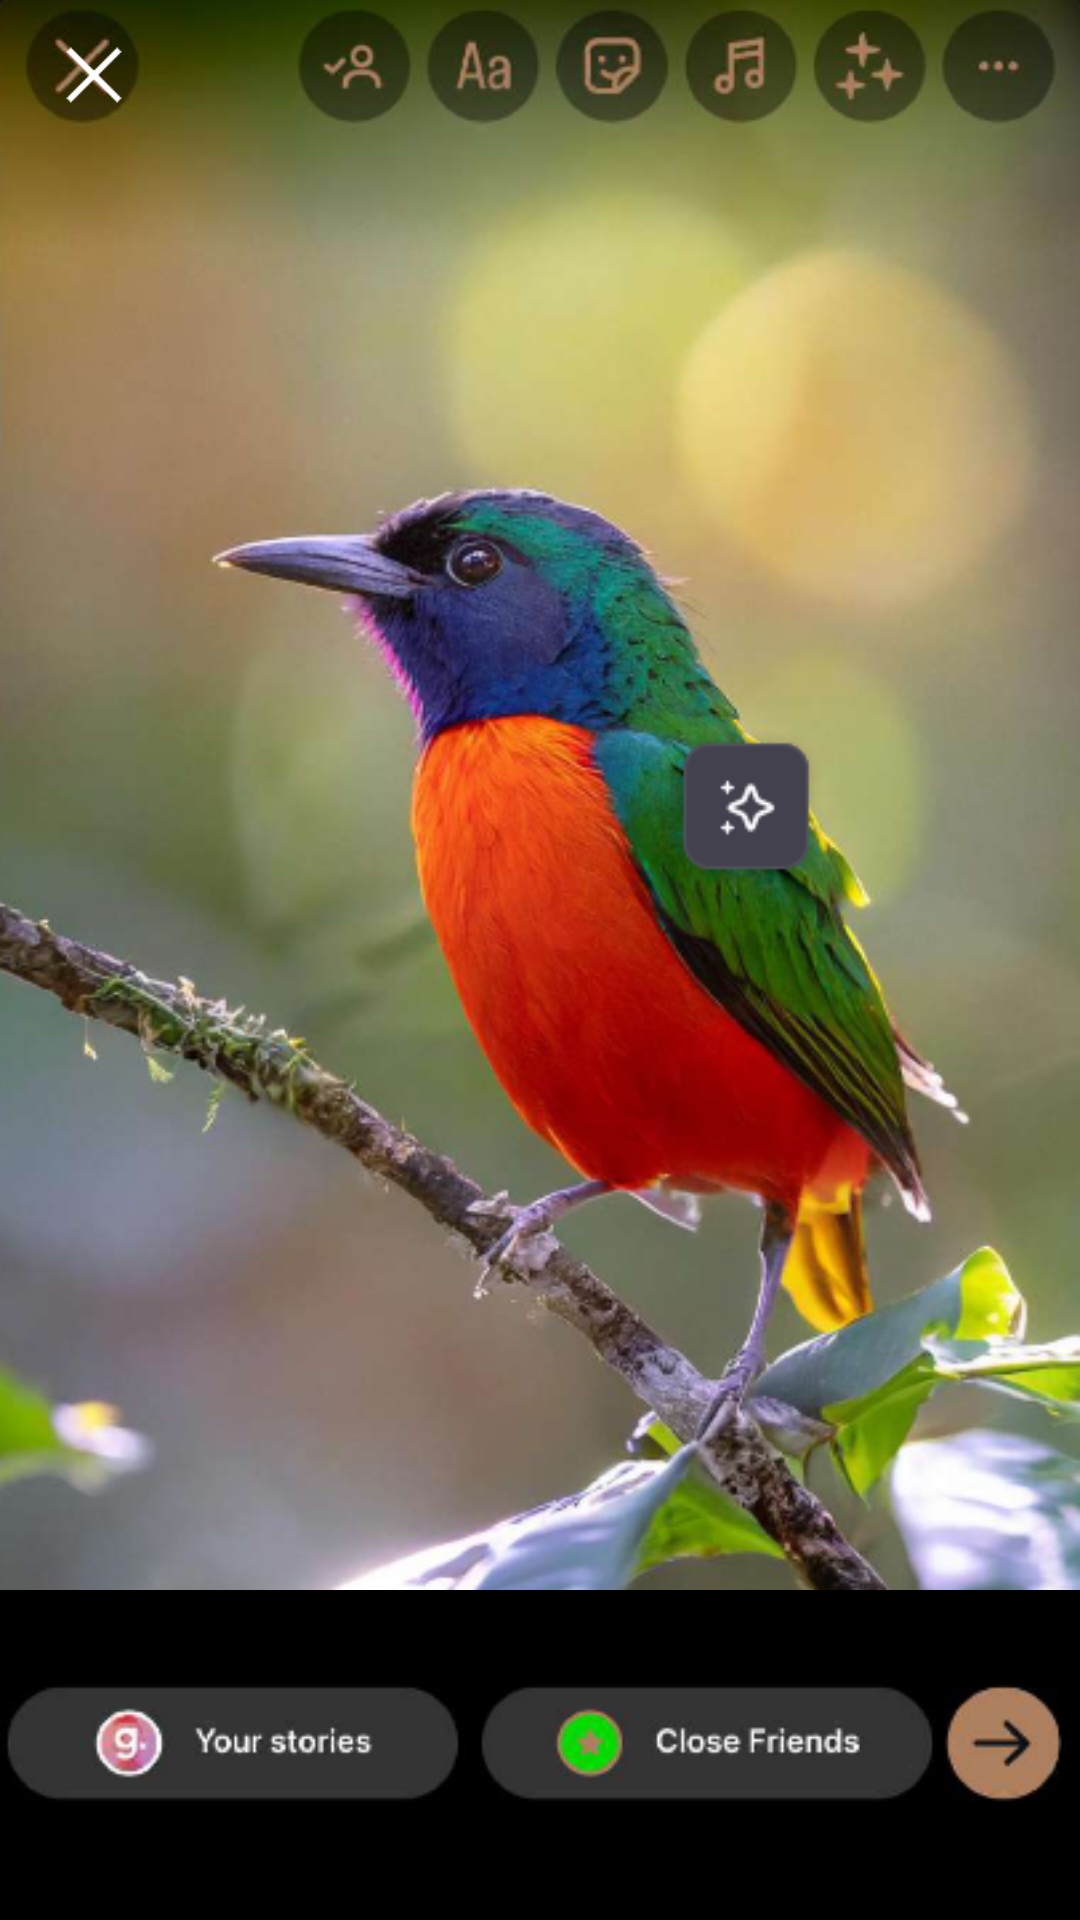

Icon click points for this 1080px x 1920px phone screenshot, format point (x, y):
cross: point (99, 75)
